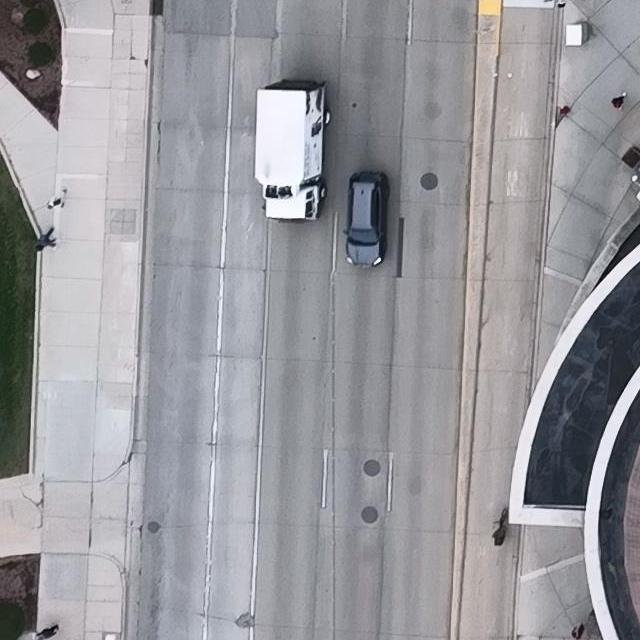car: (254, 80, 331, 220), (342, 171, 390, 269)
